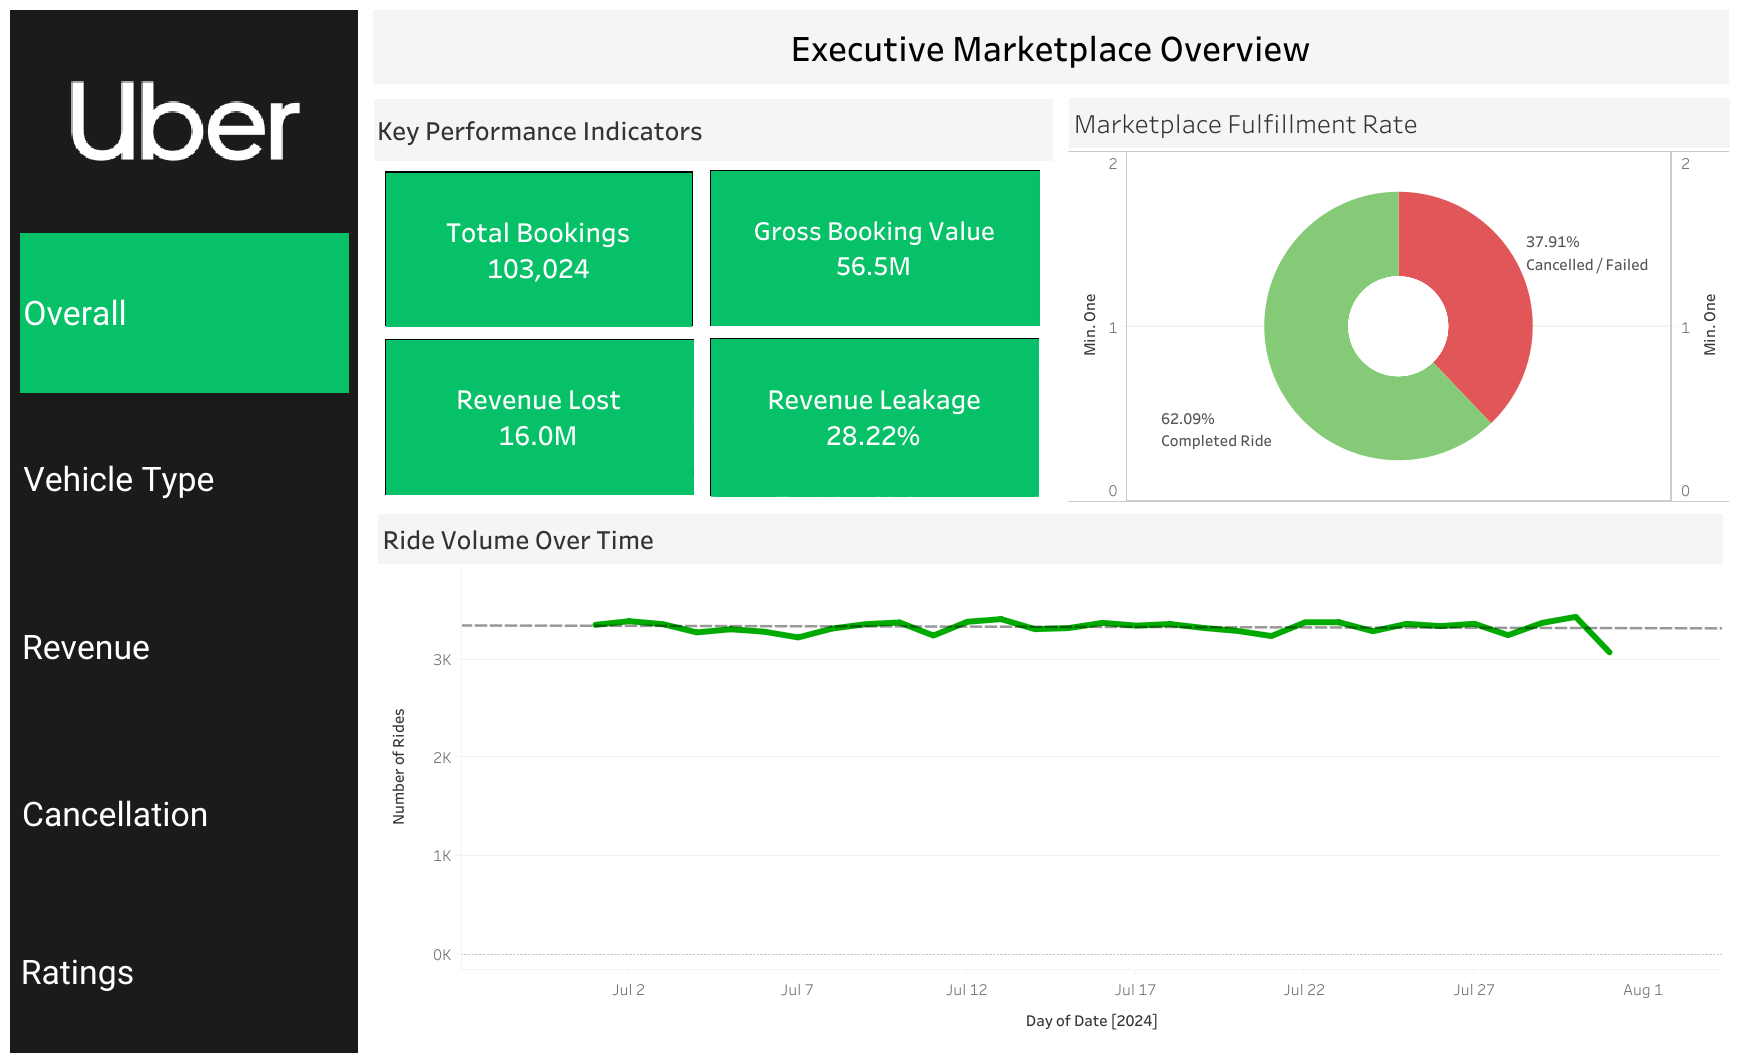

What the dashboard file says about the page in this screenshot:
{"tool":"tableau","page":{"name":"Overall","canvas":[1400,850],"ordinal":1},"visuals":[{"type":"text","box":[298,8,1085,59]},{"type":"image","param":"Image/Uber-White-Logo.wine.png","box":[15,18,268,158]},{"type":"worksheet","title":"2","mark":"Pie","rows":["Calculation_0596503974088705","Calculation_0596503974088705"],"box":[851,74,537,332]},{"type":"text","box":[299,79,543,50]},{"type":"worksheet","title":"KPI 2","mark":"Text","box":[568,136,264,125]},{"type":"worksheet","title":"KPI 1","mark":"Text","box":[308,137,246,124]},{"type":"text","box":[16,186,263,128]},{"type":"worksheet","title":"KPI 4","mark":"Automatic","box":[568,270,263,127]},{"type":"worksheet","title":"KPI 3","mark":"Automatic","box":[308,271,247,125]},{"type":"text","box":[16,321,262,124]},{"type":"worksheet","title":"1","mark":"Line","rows":["Booking_ID"],"cols":["Date"],"box":[298,407,1084,429]},{"type":"text","box":[15,453,262,129]},{"type":"text","box":[15,590,262,123]},{"type":"text","box":[14,722,263,111]}]}

Visuals, with their boxes in screenshot pixels (x1, y1, x2, y2), scaled from the page's 1400x850 canvas onto the 1749x1061 screenshot:
text: (left=372, top=10, right=1728, bottom=84)
image: (left=19, top=22, right=354, bottom=220)
"2" worksheet (Pie marks): (left=1063, top=92, right=1734, bottom=507)
text: (left=374, top=99, right=1052, bottom=161)
"KPI 2" worksheet (Text marks): (left=710, top=170, right=1039, bottom=326)
"KPI 1" worksheet (Text marks): (left=385, top=171, right=692, bottom=326)
text: (left=20, top=232, right=349, bottom=392)
"KPI 4" worksheet: (left=710, top=337, right=1038, bottom=496)
"KPI 3" worksheet: (left=385, top=338, right=693, bottom=494)
text: (left=20, top=401, right=347, bottom=555)
"1" worksheet (Line marks): (left=372, top=508, right=1727, bottom=1044)
text: (left=19, top=565, right=346, bottom=726)
text: (left=19, top=736, right=346, bottom=890)
text: (left=17, top=901, right=346, bottom=1040)
